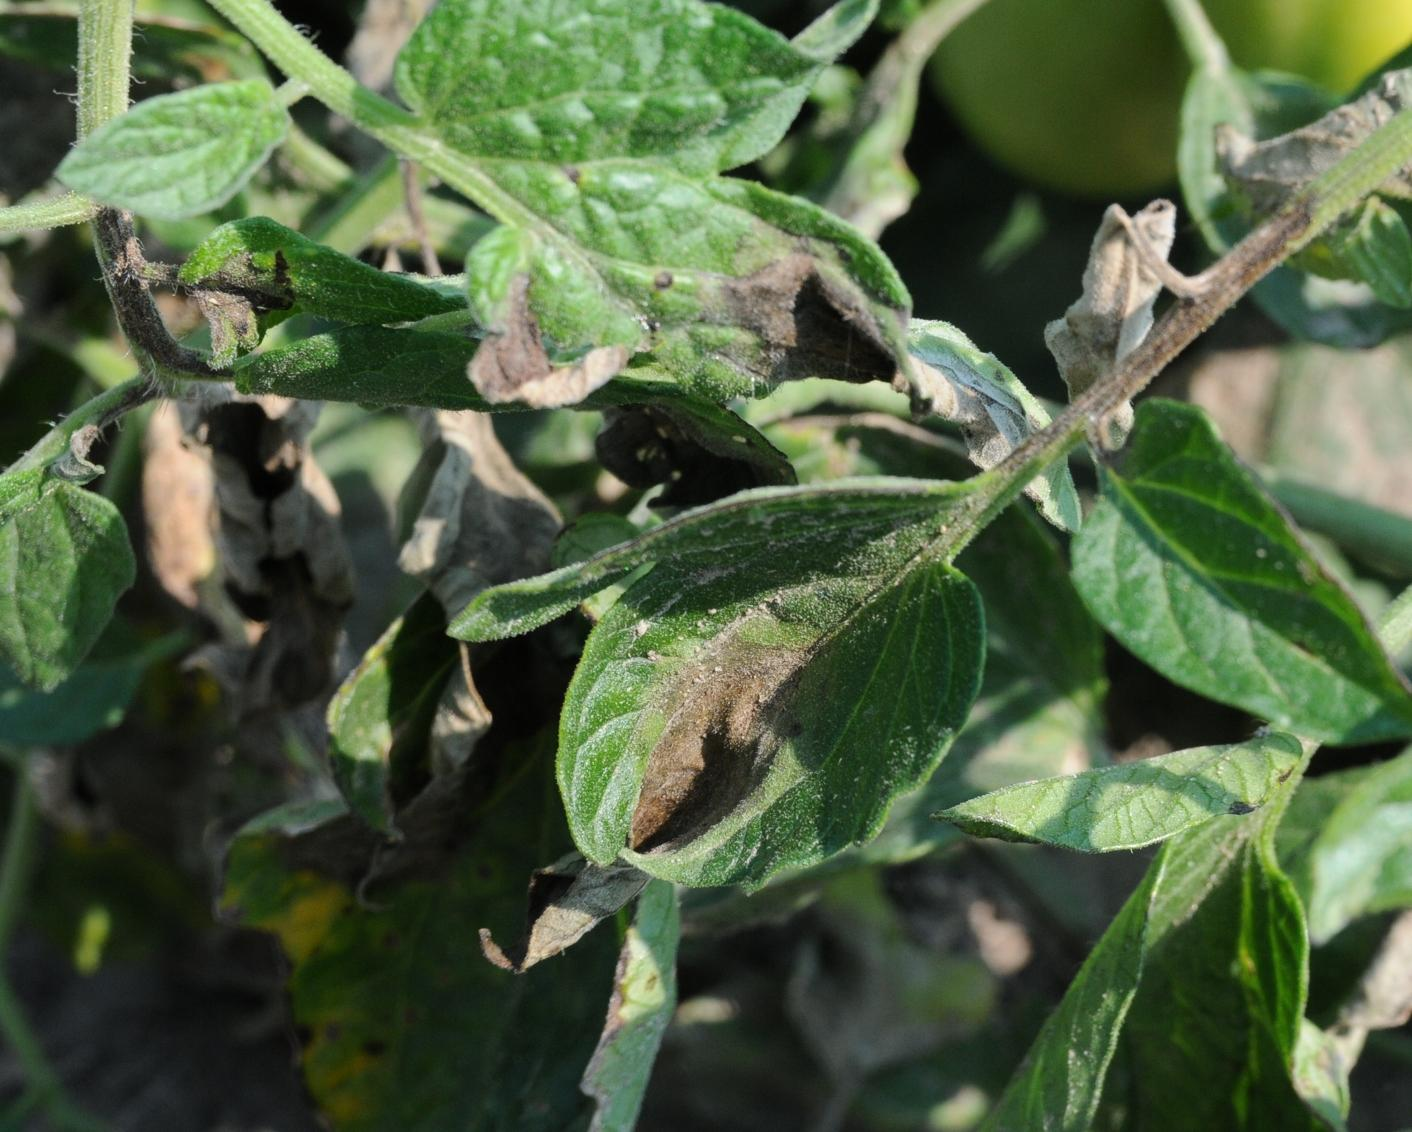Tomato leaf mosaic virus: (520, 471, 995, 944), (401, 90, 899, 444)
